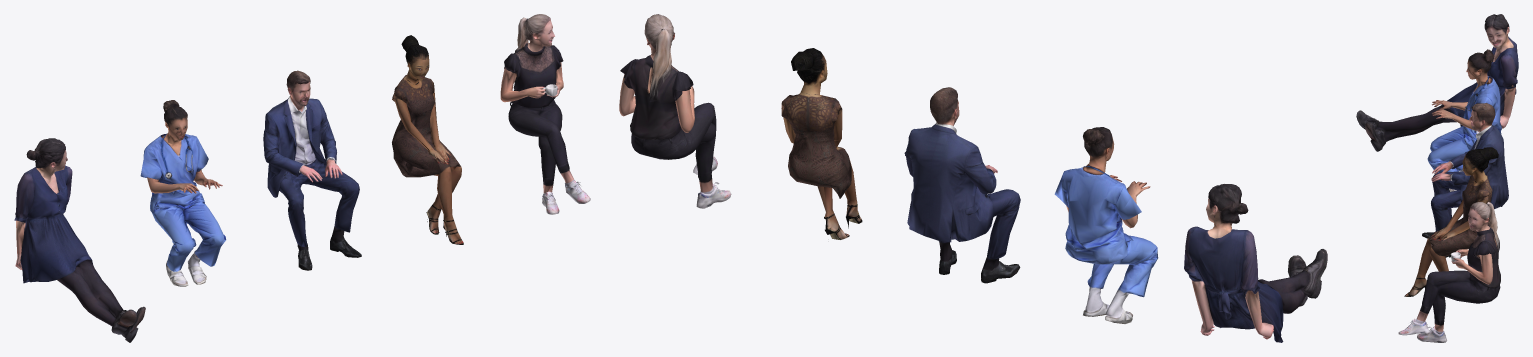
File: people5s_lod1.glb
3 renders of one model, left to right at view 1: azimuth 30°, elevation 25°; view 2: azimuth 150°, elevation 25°; view 3: azimuth 270°, elevation 25°, orthographic. The views are drawn at different scales.
Parts seen in each view (by area): view 1: Sitting people x 5 11-001, Sitting people x 5 11-004_Sitting people x 5 11-004_0, Sitting people x 5 11-005_Sitting people x 5 11-005_0, Sitting people x 5 11-002, Sitting people x 5 11-003; view 2: Sitting people x 5 11-004_Sitting people x 5 11-004_0, Sitting people x 5 11-001, Sitting people x 5 11-005_Sitting people x 5 11-005_0, Sitting people x 5 11-002, Sitting people x 5 11-003; view 3: Sitting people x 5 11-002, Sitting people x 5 11-001, Sitting people x 5 11-004_Sitting people x 5 11-004_0, Sitting people x 5 11-003, Sitting people x 5 11-005_Sitting people x 5 11-005_0.
Boxes of the visible parts, left/top/right/bottom form: Sitting people x 5 11-001: left=14, top=138, right=145, bottom=342; Sitting people x 5 11-004_Sitting people x 5 11-004_0: left=263, top=70, right=361, bottom=270; Sitting people x 5 11-005_Sitting people x 5 11-005_0: left=140, top=100, right=226, bottom=286; Sitting people x 5 11-002: left=500, top=14, right=590, bottom=214; Sitting people x 5 11-003: left=392, top=35, right=463, bottom=244; Sitting people x 5 11-004_Sitting people x 5 11-004_0: left=904, top=87, right=1020, bottom=283; Sitting people x 5 11-001: left=1184, top=184, right=1327, bottom=342; Sitting people x 5 11-005_Sitting people x 5 11-005_0: left=1054, top=127, right=1158, bottom=323; Sitting people x 5 11-002: left=619, top=14, right=731, bottom=208; Sitting people x 5 11-003: left=781, top=48, right=862, bottom=239; Sitting people x 5 11-002: left=1398, top=202, right=1500, bottom=342; Sitting people x 5 11-001: left=1356, top=14, right=1518, bottom=151; Sitting people x 5 11-004_Sitting people x 5 11-004_0: left=1422, top=103, right=1508, bottom=257; Sitting people x 5 11-003: left=1404, top=147, right=1498, bottom=296; Sitting people x 5 11-005_Sitting people x 5 11-005_0: left=1427, top=49, right=1501, bottom=191.
Size of the model in its own units: 4.39 by 1.34 by 1.33.
Materials: 5 (5 with a texture image).
